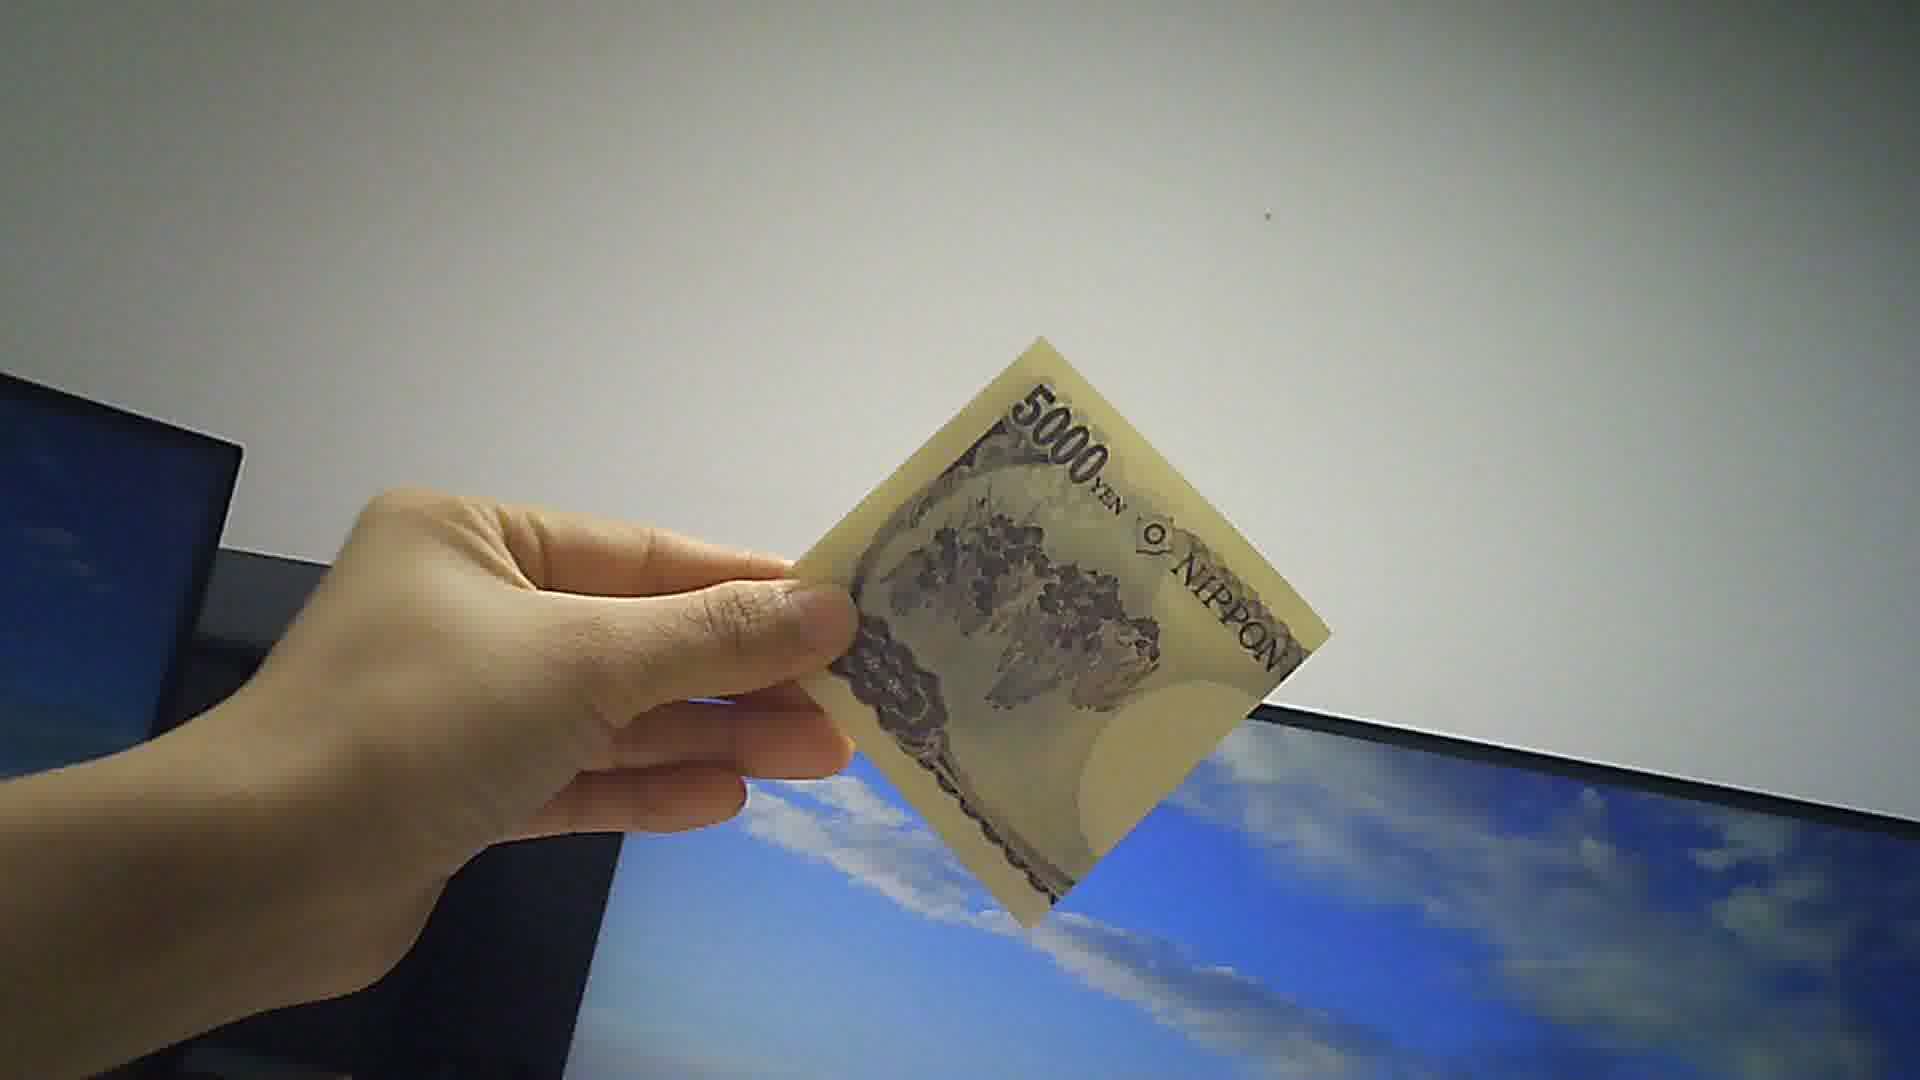5,000 Yen: (778, 311, 1319, 918)
